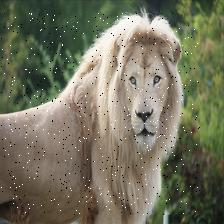Lion: (0, 13, 199, 215)
